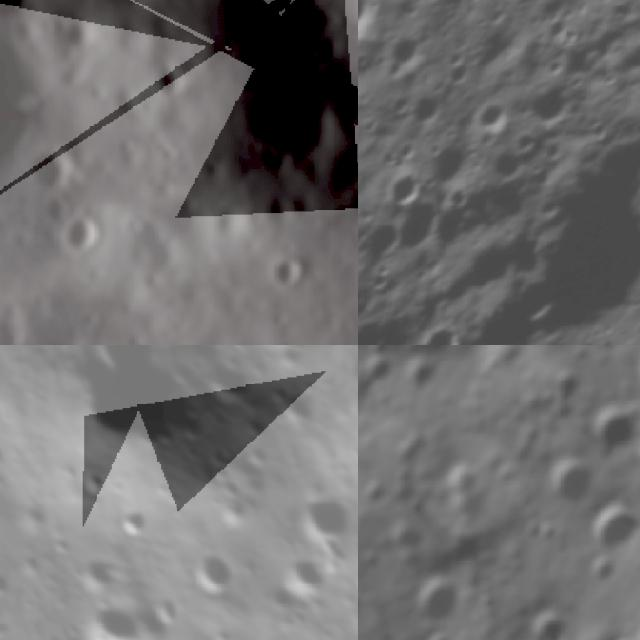crater: (500, 144, 640, 345), (400, 563, 479, 639), (416, 126, 489, 200), (19, 130, 87, 206), (538, 445, 608, 514), (387, 185, 451, 257), (578, 398, 640, 469), (290, 489, 356, 555), (263, 552, 331, 613), (581, 495, 640, 563), (382, 14, 442, 77), (74, 589, 145, 640), (524, 71, 584, 131), (513, 595, 585, 640), (401, 74, 457, 131), (399, 345, 455, 402), (376, 159, 434, 213), (468, 85, 522, 141), (52, 217, 112, 266), (188, 542, 240, 597), (358, 211, 412, 263), (358, 345, 410, 393), (585, 551, 633, 598), (415, 309, 475, 345), (268, 252, 312, 299), (358, 473, 395, 516), (116, 510, 154, 549), (151, 61, 189, 98), (76, 466, 112, 502), (358, 0, 385, 45), (47, 533, 74, 560), (358, 215, 371, 269), (216, 478, 242, 503), (0, 389, 13, 435), (0, 438, 12, 475)
